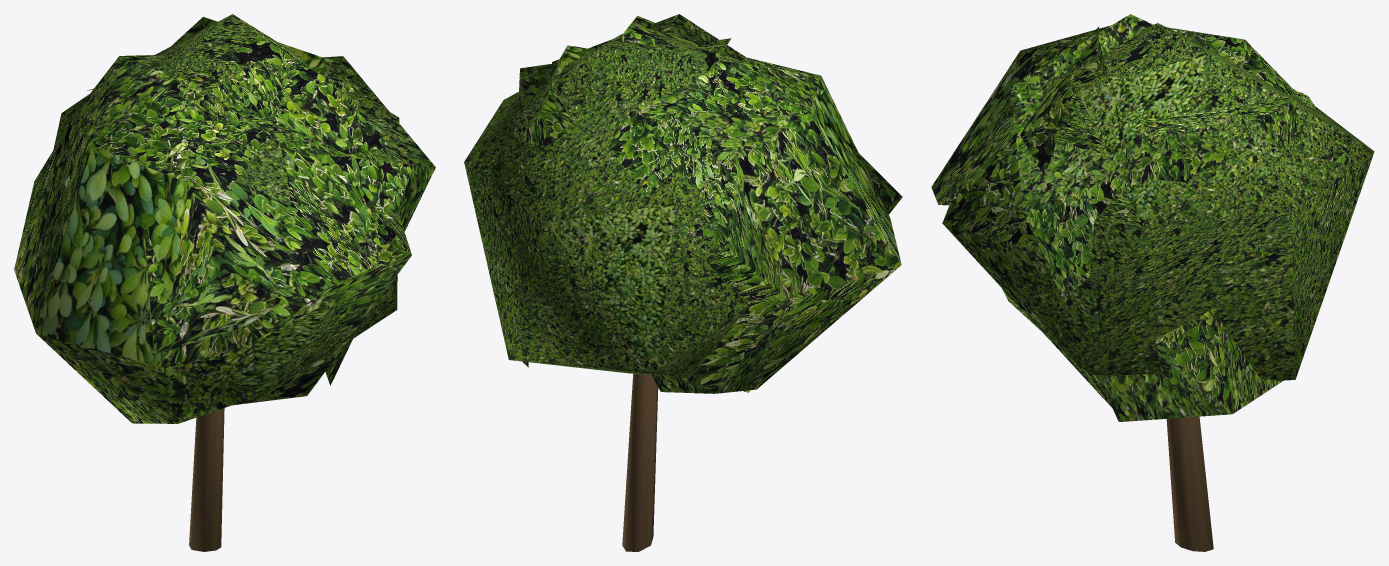
File: Puska.fbx
3 renders of one model, left to right at view 1: azimuth 30°, elevation 25°; view 2: azimuth 150°, elevation 25°; view 3: azimuth 270°, elevation 25°, orthographic. The views are drawn at different scales.
Parts seen in each view (by area): view 1: Puska; view 2: Puska; view 3: Puska.
Part boxes in pixels (x1,y1,x2,y2): Puska: (14, 14, 435, 551); Puska: (464, 14, 902, 551); Puska: (931, 14, 1374, 551).
Bounding box in the file's own units: 226 × 288 × 226.
